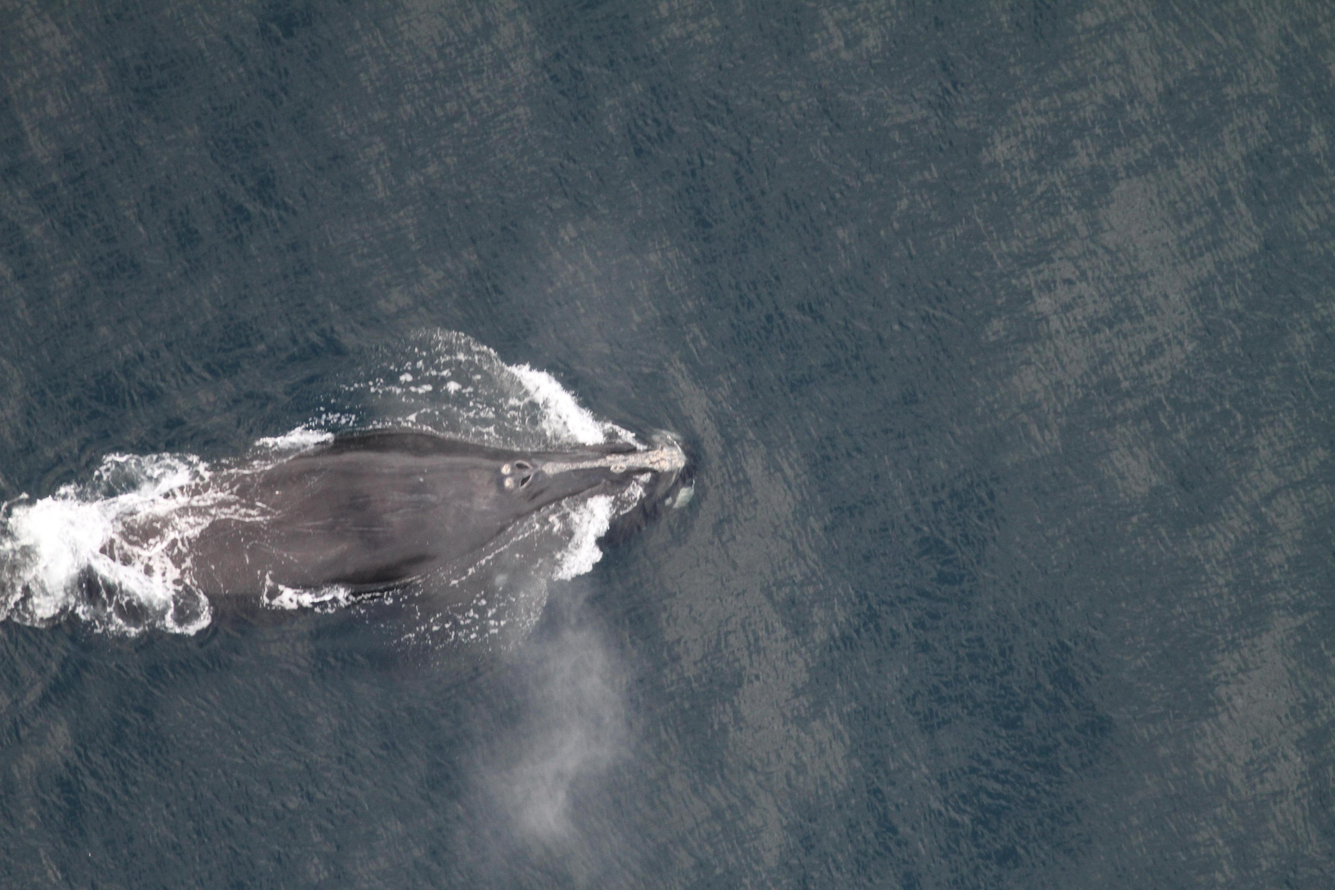whale: (0, 403, 705, 672)
